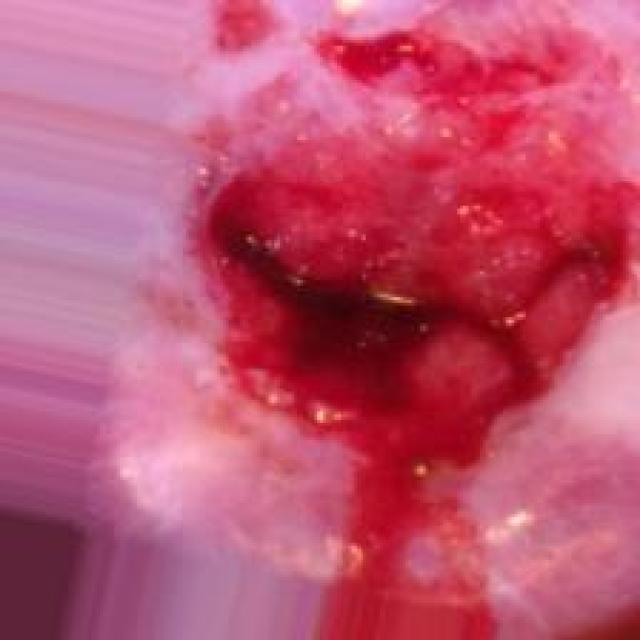type-1: (145, 20, 640, 637)
